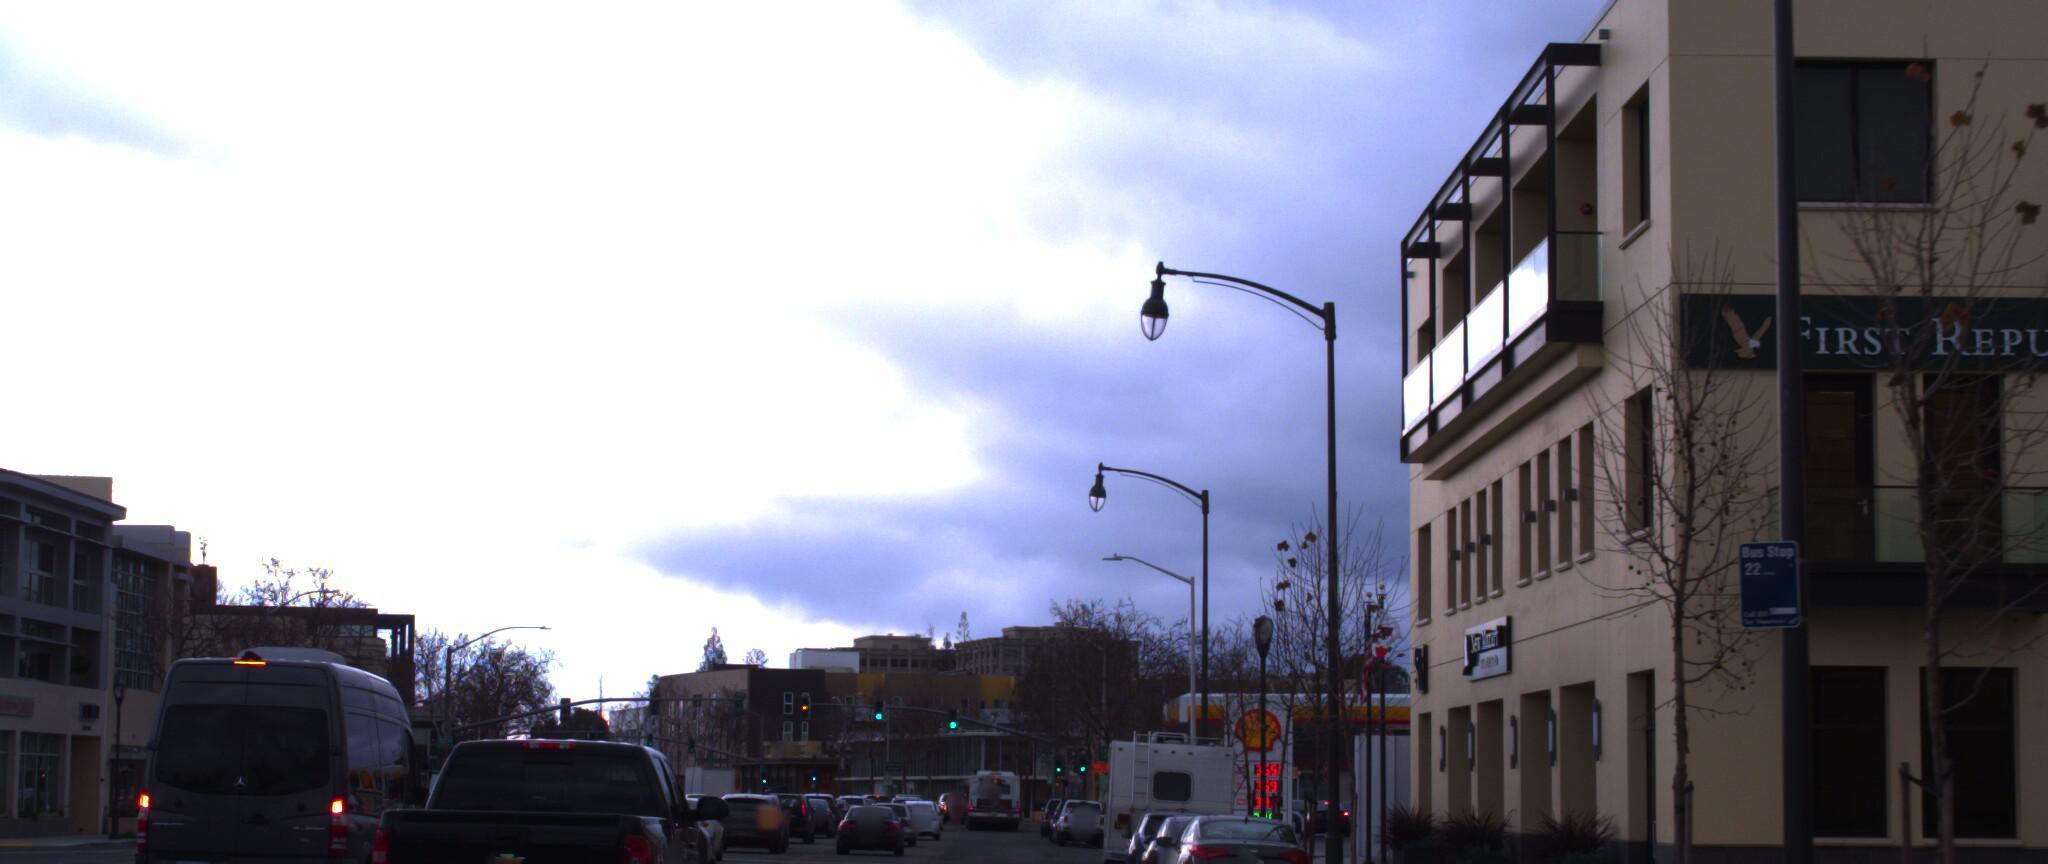car: (121, 609, 462, 864), (355, 688, 728, 864), (1148, 786, 1323, 864), (703, 762, 795, 827), (831, 780, 906, 839)
other_vehicle: (1098, 707, 1245, 864)
